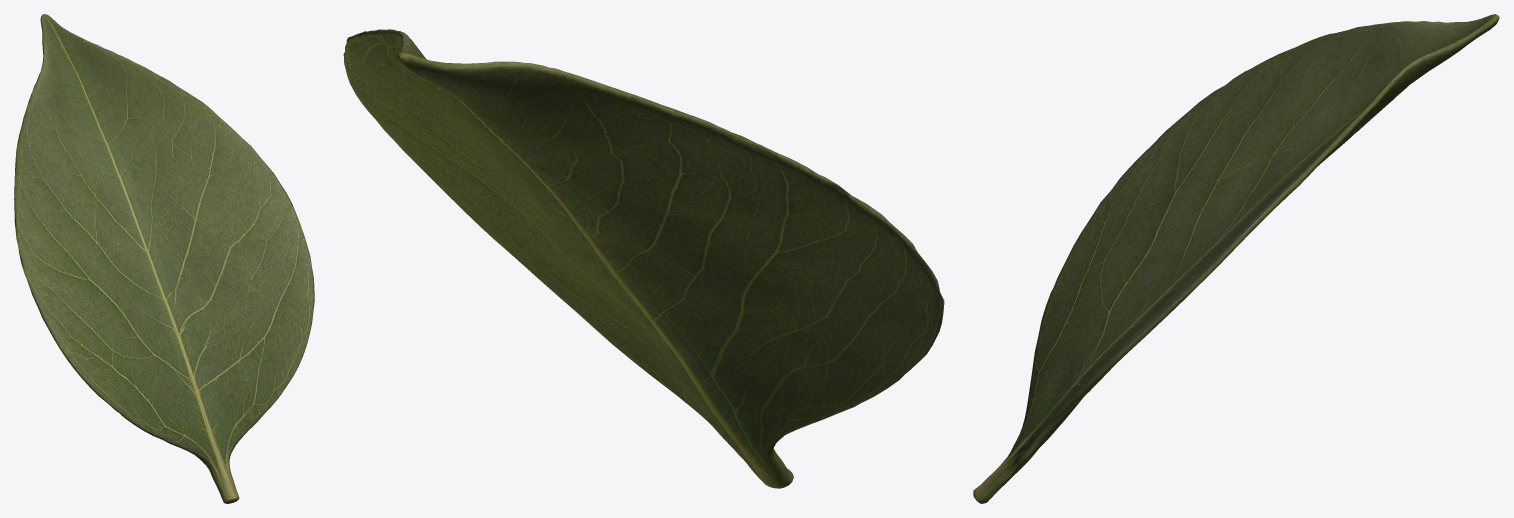
File: Prop_GreenLeaf.fbx
The picture shows the model from 3 angles, left to right: view 1: azimuth 30°, elevation 25°; view 2: azimuth 150°, elevation 25°; view 3: azimuth 270°, elevation 25°; orthographic projection. The views are drawn at different scales.
Parts seen in each view (by area): view 1: texture_mapping; view 2: texture_mapping; view 3: texture_mapping.
Part boxes in pixels (box(x1,y1,x2,y2)): texture_mapping: box(14, 14, 314, 503); texture_mapping: box(343, 29, 944, 488); texture_mapping: box(973, 14, 1499, 503).
Bounding box in the file's own units: 0.7986 × 0.9779 × 0.9995.
Materials: 1 (1 with a texture image).
